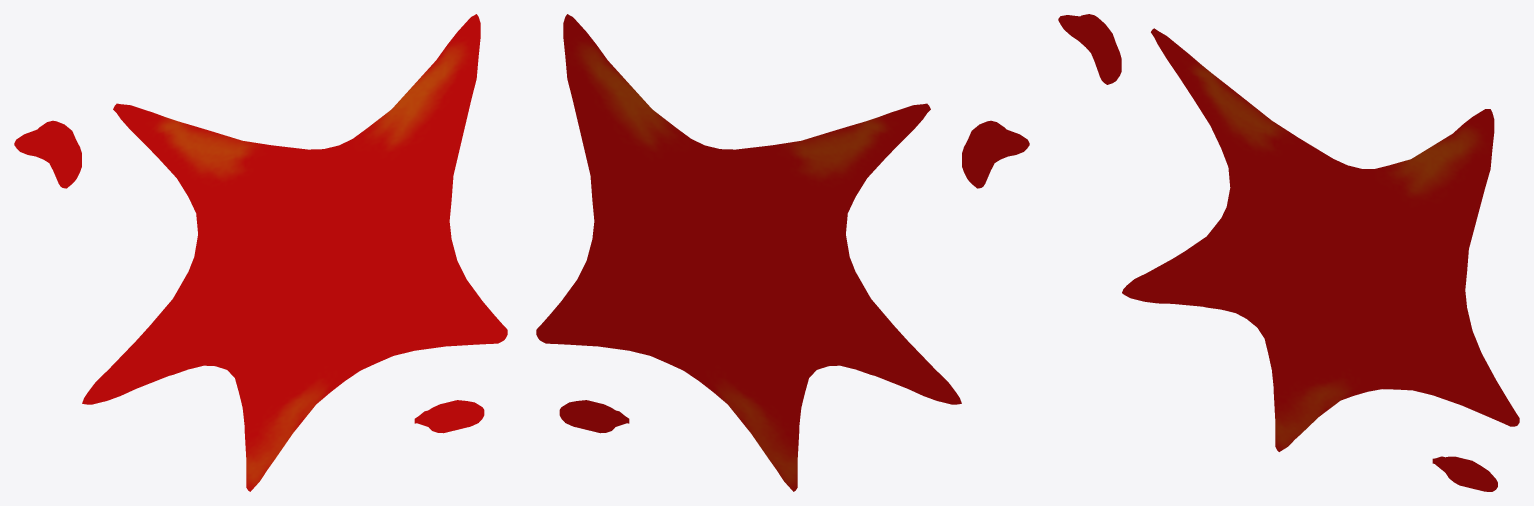
Rendered from Shpriz.glb.
3 views of the same model, side by side, from view 1: azimuth 30°, elevation 25°; view 2: azimuth 150°, elevation 25°; view 3: azimuth 330°, elevation 25° (orthographic). The views are drawn at different scales.
Parts seen in each view (by area): view 1: Shpriz; view 2: Shpriz; view 3: Shpriz.
Boxes of the visible parts, bbox=[...] form: Shpriz: bbox=[14, 14, 507, 491]; Shpriz: bbox=[536, 14, 1029, 491]; Shpriz: bbox=[1058, 14, 1519, 491].
Size of the model in its own units: 169 by 138 by 8.58e-06.
1 material, 1 textured.
